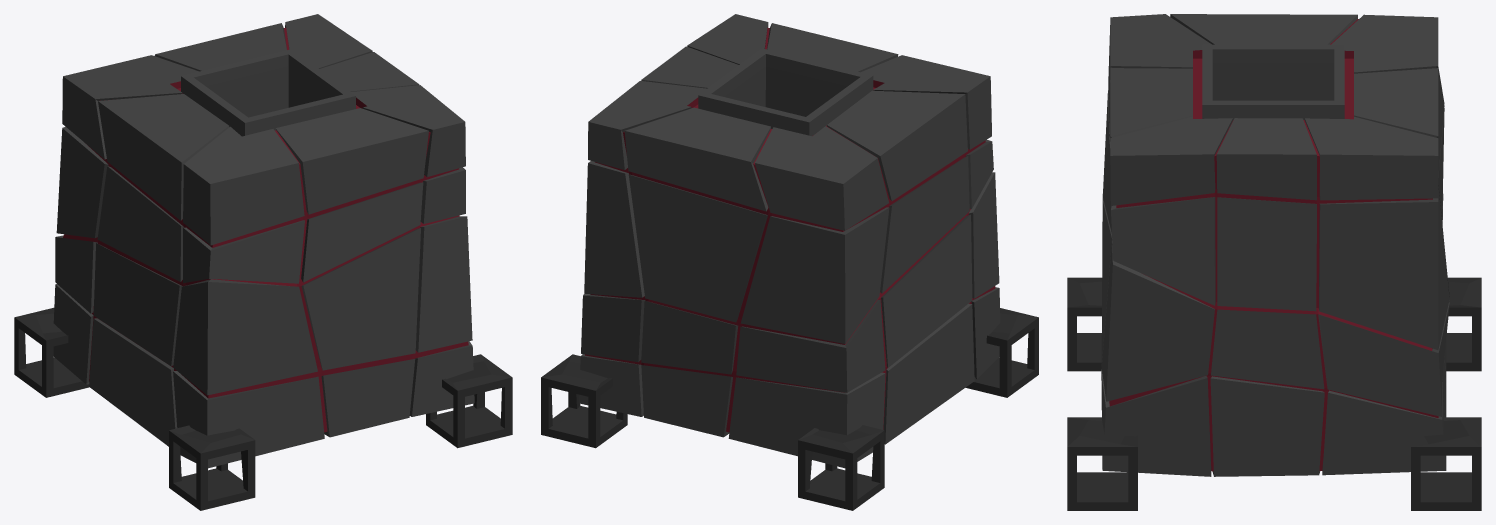
Rendered from FragileBlock.fbx.
The picture shows the model from 3 angles, left to right: view 1: azimuth 30°, elevation 25°; view 2: azimuth 150°, elevation 25°; view 3: azimuth 270°, elevation 25°; orthographic projection. The views are drawn at different scales.
Parts seen in each view (by area): view 1: Mesh; view 2: Mesh; view 3: Mesh.
Boxes of the visible parts, x1,y1,x2,y2 form: Mesh: [14, 14, 512, 510]; Mesh: [541, 14, 1038, 510]; Mesh: [1067, 14, 1481, 510].
Size of the model in its own units: 0.927 by 0.9032 by 0.9579.
